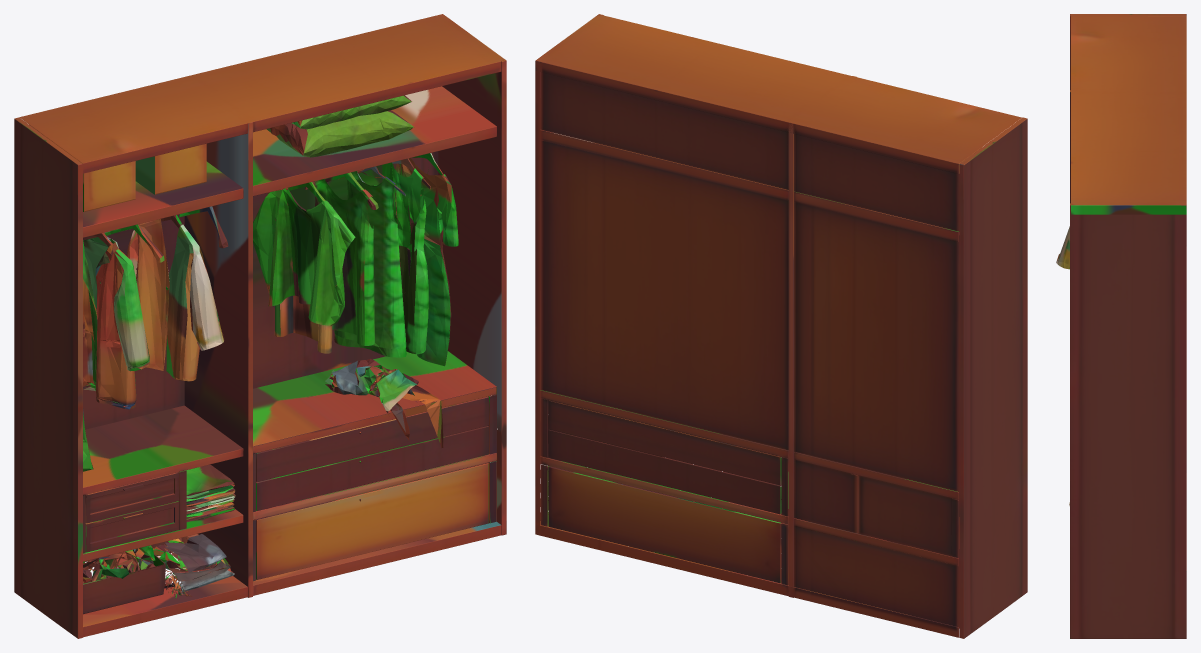
Rendered from edited_mesh.glb.
The picture shows the model from 3 angles, left to right: view 1: azimuth 30°, elevation 25°; view 2: azimuth 150°, elevation 25°; view 3: azimuth 270°, elevation 25°; orthographic projection. The views are drawn at different scales.
Parts seen in each view (by area): view 1: solid_001_wire; view 2: solid_001_wire; view 3: solid_001_wire.
Part boxes in pixels (box(x1,y1,x2,y2)): solid_001_wire: box(14, 14, 506, 638); solid_001_wire: box(535, 14, 1027, 638); solid_001_wire: box(1056, 14, 1186, 638).
Bounding box in the file's own units: 1.28 × 1.36 × 0.3697.
1 material, 1 textured.
